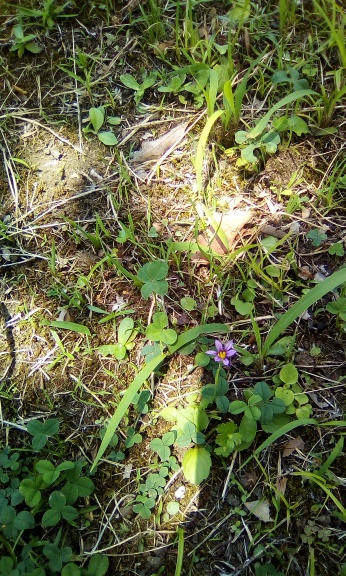4leaf: (136, 260, 169, 300)
